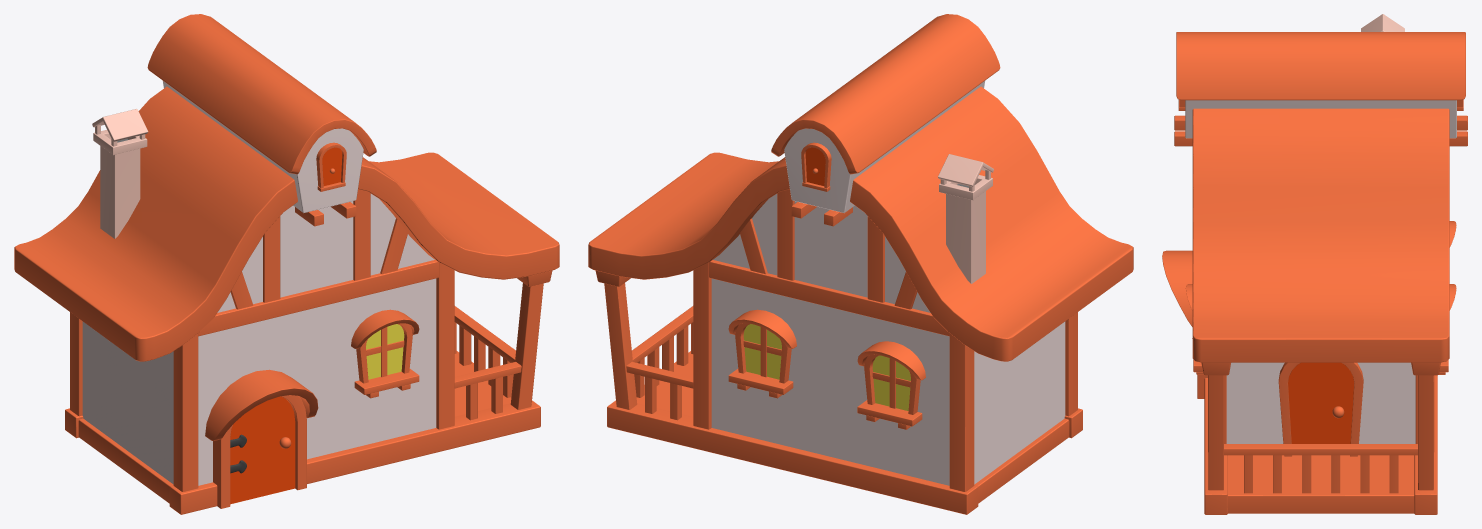
The model's file is Farm_11_House_1.glb.
The picture shows the model from 3 angles, left to right: view 1: azimuth 30°, elevation 25°; view 2: azimuth 150°, elevation 25°; view 3: azimuth 270°, elevation 25°; orthographic projection.
Visible parts, largest first — view 1: Farm_11_House_1; view 2: Farm_11_House_1; view 3: Farm_11_House_1.
Part boxes in pixels (bbox=[...]): Farm_11_House_1: bbox=[14, 14, 559, 514]; Farm_11_House_1: bbox=[588, 14, 1133, 514]; Farm_11_House_1: bbox=[1162, 14, 1467, 514].
Bounding box in the file's own units: 10.09 × 8.45 × 6.29.
Materials: 1 (1 with a texture image).
